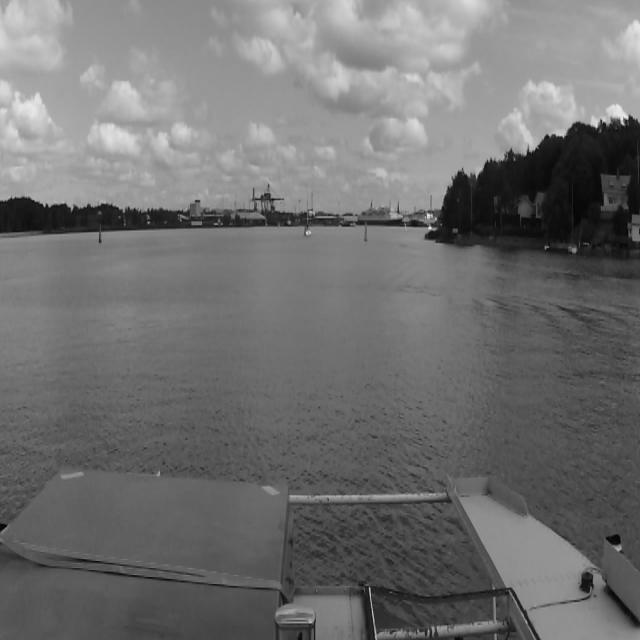buoy: (99, 223, 102, 242), (364, 223, 367, 240)
ship: (358, 204, 404, 225), (305, 198, 311, 236)
